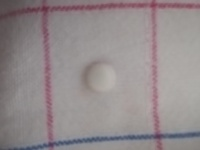Yuvarlak Buskopan: (82, 60, 117, 94)
